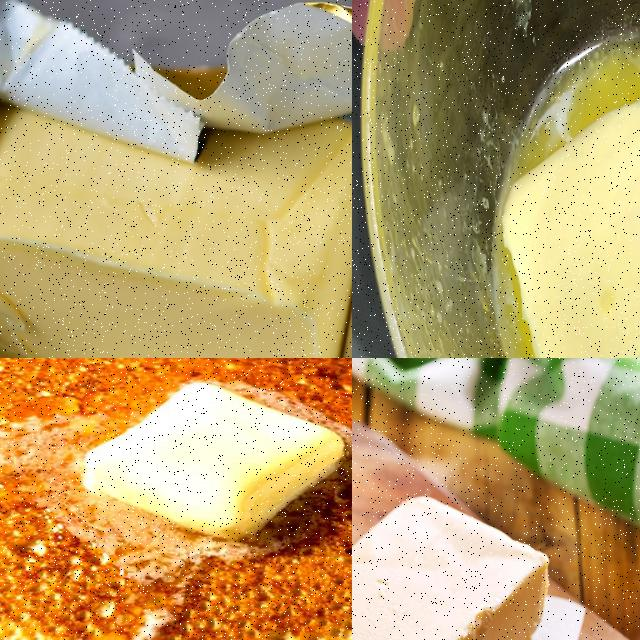butter: (0, 70, 351, 357), (71, 373, 351, 542), (500, 51, 639, 357), (352, 490, 552, 639)
